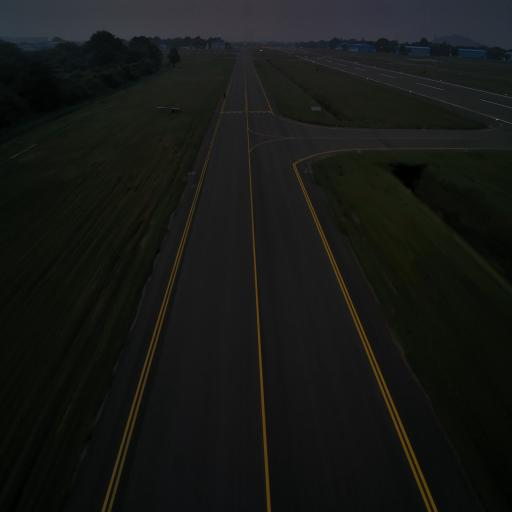on: (305, 167, 308, 173), (192, 168, 194, 175)
